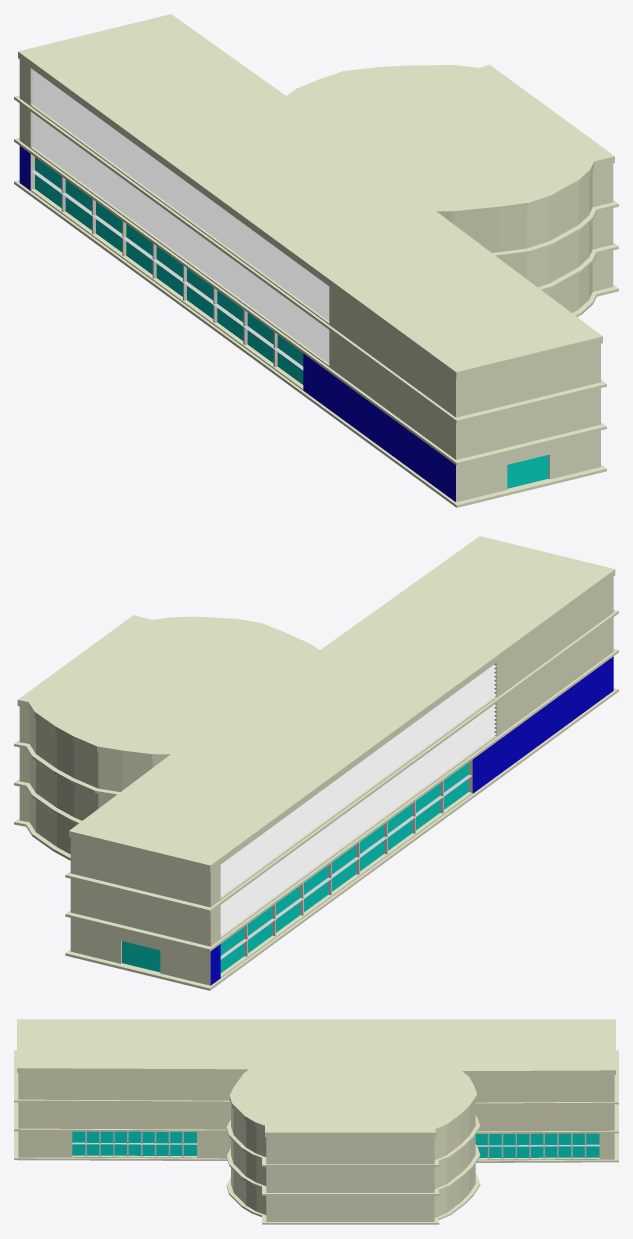
File: Eastern Avenue Auditorium.fbx
The picture shows the model from 3 angles, top to bottom: view 1: azimuth 30°, elevation 25°; view 2: azimuth 150°, elevation 25°; view 3: azimuth 270°, elevation 25°; orthographic projection. The views are drawn at different scales.
Parts seen in each view (by area): view 1: Eastern Avenue Auditorium; view 2: Eastern Avenue Auditorium; view 3: Eastern Avenue Auditorium.
Boxes of the visible parts, x1,y1,x2,y2 form: Eastern Avenue Auditorium: (14,14,618,507); Eastern Avenue Auditorium: (14,536,618,990); Eastern Avenue Auditorium: (14,1019,618,1224).
Bounding box in the file's own units: 2812 × 1045 × 6273.
